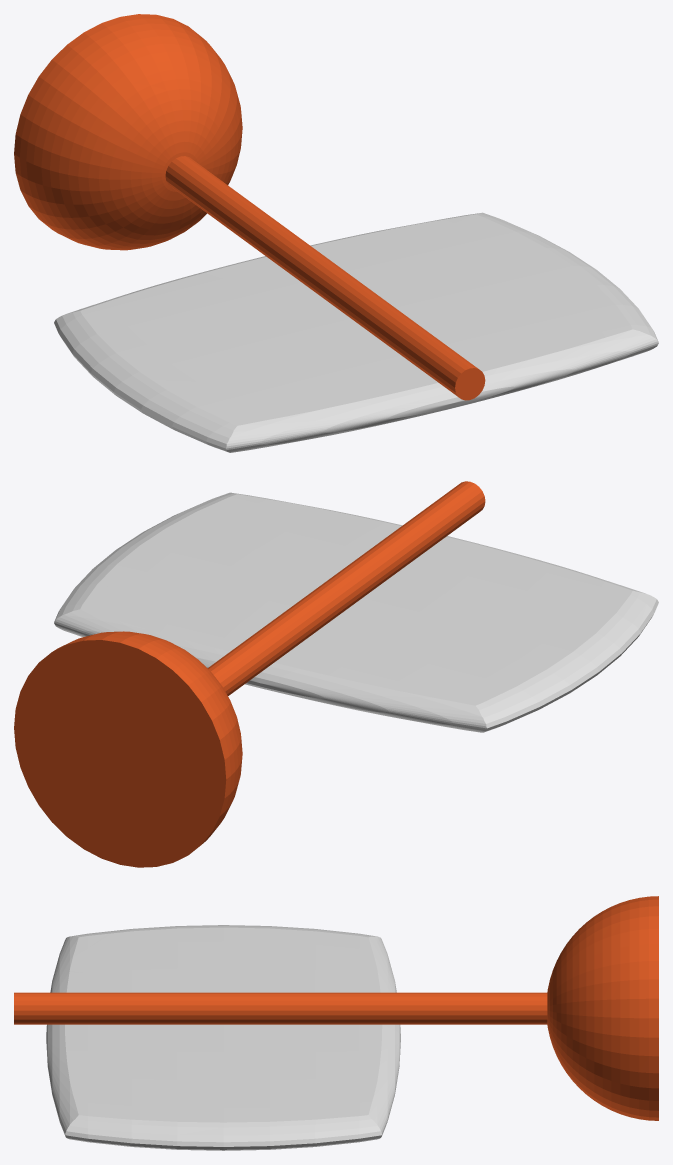
File: tinker.obj
3 renders of one model, top to bottom at view 1: azimuth 30°, elevation 25°; view 2: azimuth 150°, elevation 25°; view 3: azimuth 270°, elevation 25°, orthographic. The views are drawn at different scales.
Visible parts, largest first — view 1: group_0_16777215, group_0_14900002; view 2: group_0_16777215, group_0_14900002; view 3: group_0_16777215, group_0_14900002.
Boxes of the visible parts, box(x1,y1,x2,y2) form: group_0_16777215: box(54, 212, 658, 452); group_0_14900002: box(14, 14, 485, 400); group_0_16777215: box(54, 492, 658, 732); group_0_14900002: box(14, 481, 485, 867); group_0_16777215: box(46, 925, 400, 1150); group_0_14900002: box(14, 896, 658, 1120).
Bounding box in the file's own units: 16.01 × 7 × 20.
